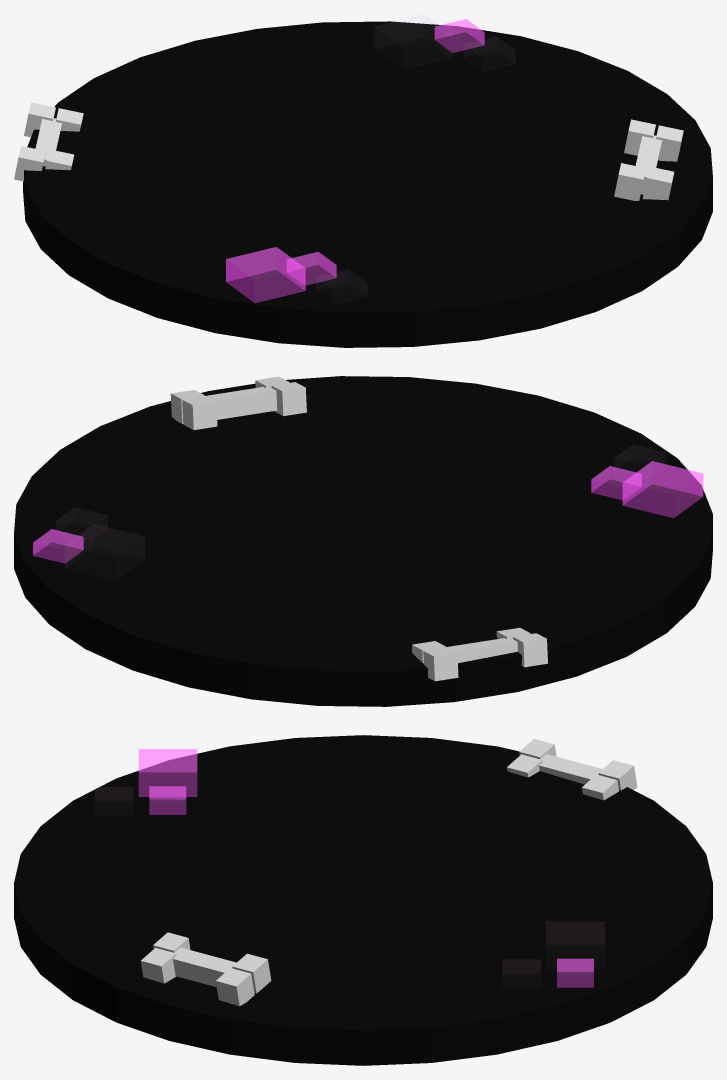
File: Plane_Range.fbx
3 renders of one model, top to bottom at view 1: azimuth 30°, elevation 25°; view 2: azimuth 150°, elevation 25°; view 3: azimuth 270°, elevation 25°, orthographic.
Parts seen in each view (by area): view 1: Cylinder.009; view 2: Cylinder.009; view 3: Cylinder.009.
Part boxes in pixels (<box>): Cylinder.009: <box>14,19,712,347</box>; Cylinder.009: <box>14,376,712,706</box>; Cylinder.009: <box>14,735,712,1065</box>.
Bounding box in the file's own units: 405 × 41.77 × 405.
